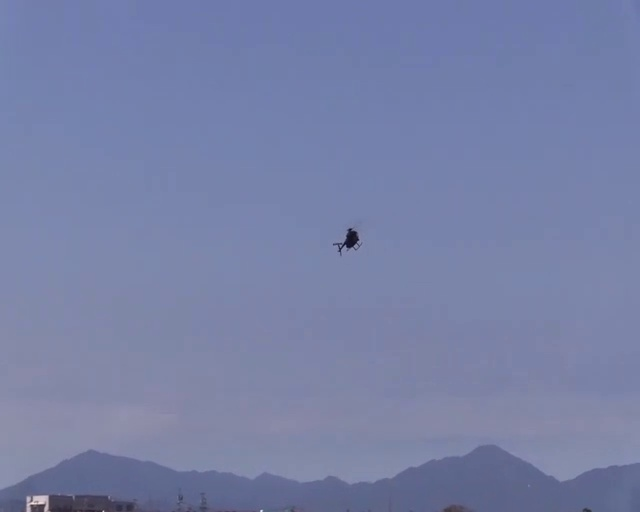HELICOPTER: (332, 226, 362, 255)
